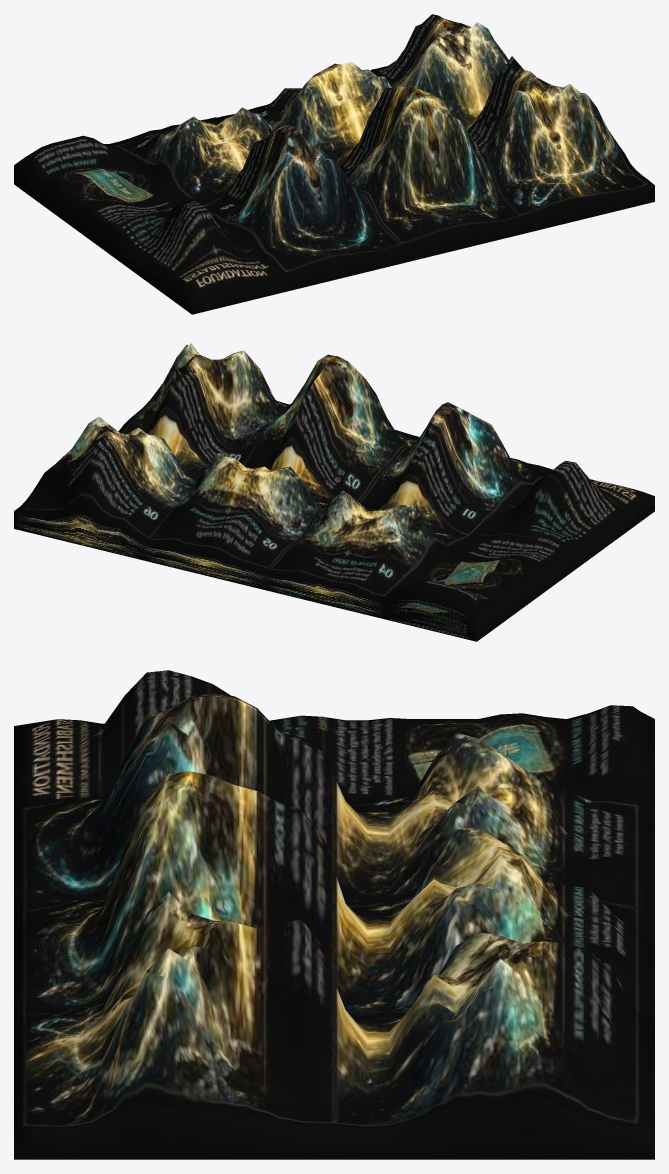
File: CUL_10_Foundation_Establishment.glb
3 renders of one model, top to bottom at view 1: azimuth 30°, elevation 25°; view 2: azimuth 150°, elevation 25°; view 3: azimuth 270°, elevation 25°, orthographic. The views are drawn at different scales.
Parts seen in each view (by area): view 1: CUL_10_Foundation_Establishment; view 2: CUL_10_Foundation_Establishment; view 3: CUL_10_Foundation_Establishment.
Part boxes in pixels (x1,y1,x2,y2): CUL_10_Foundation_Establishment: (14,14,654,314); CUL_10_Foundation_Establishment: (14,343,654,641); CUL_10_Foundation_Establishment: (14,670,654,1159).
Bounding box in the file's own units: 2 × 0.51 × 1.33.
Materials: 1 (1 with a texture image).
